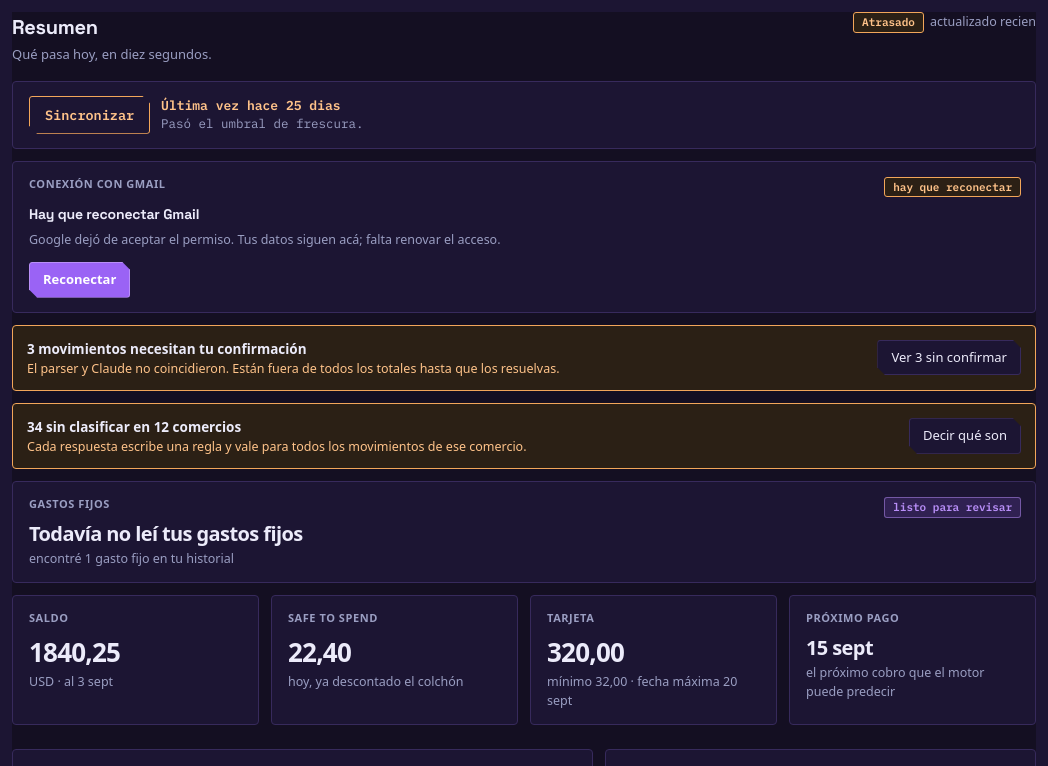
Test: el sync vive adentro del chip › el permiso vencido no se dibuja igual que el que nunca se dio
Click the button with test id "sync-button-accion". click: {"x": 90, "y": 115}
box: [29, 96, 150, 134]
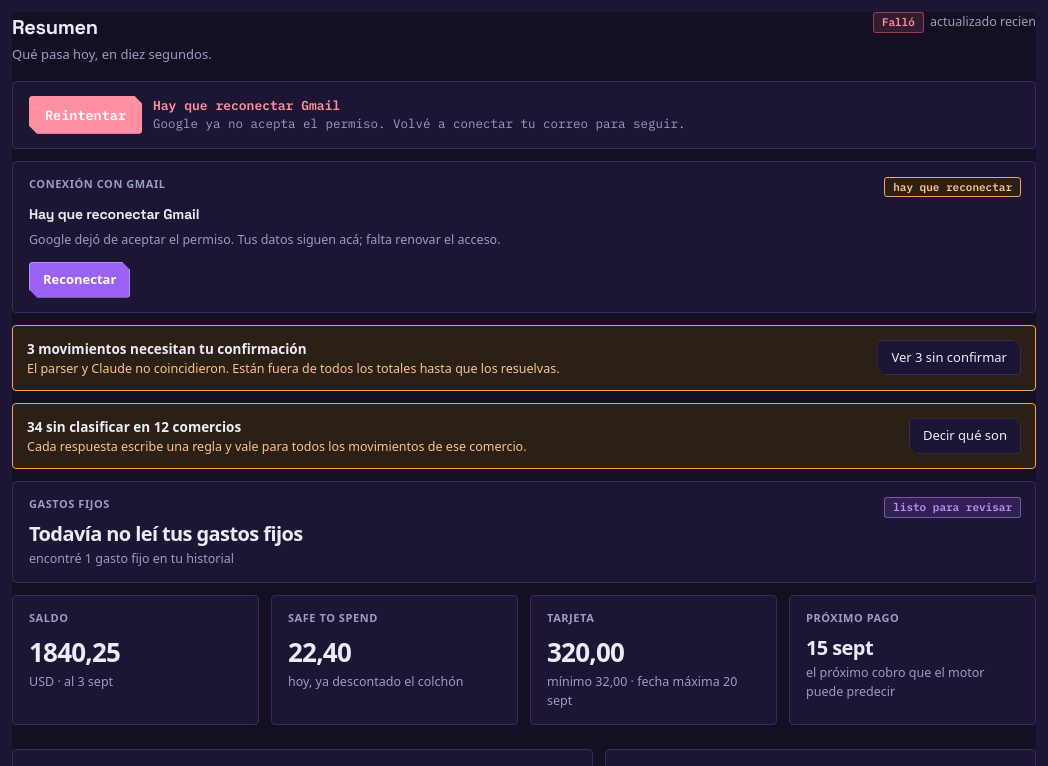
Result: the text with test id "sync-button-titulo" reads "Hay que reconectar Gmail" at [153, 97, 340, 114]
